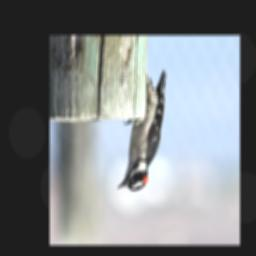Woodpecker: (117, 71, 167, 192)
